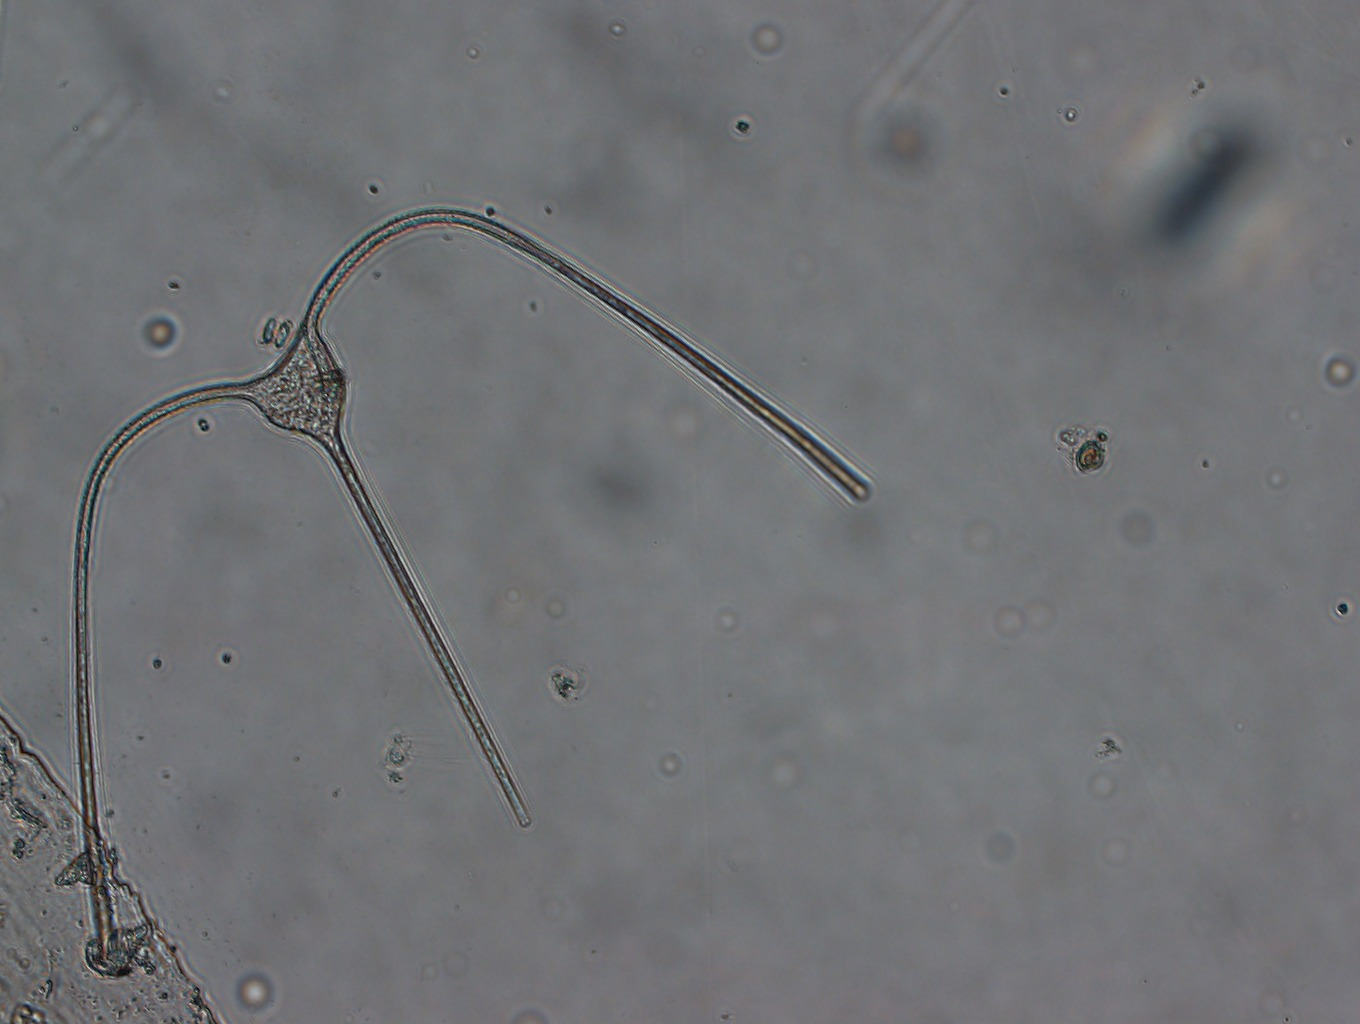ceratium trichoceros: (57, 195, 883, 966)
